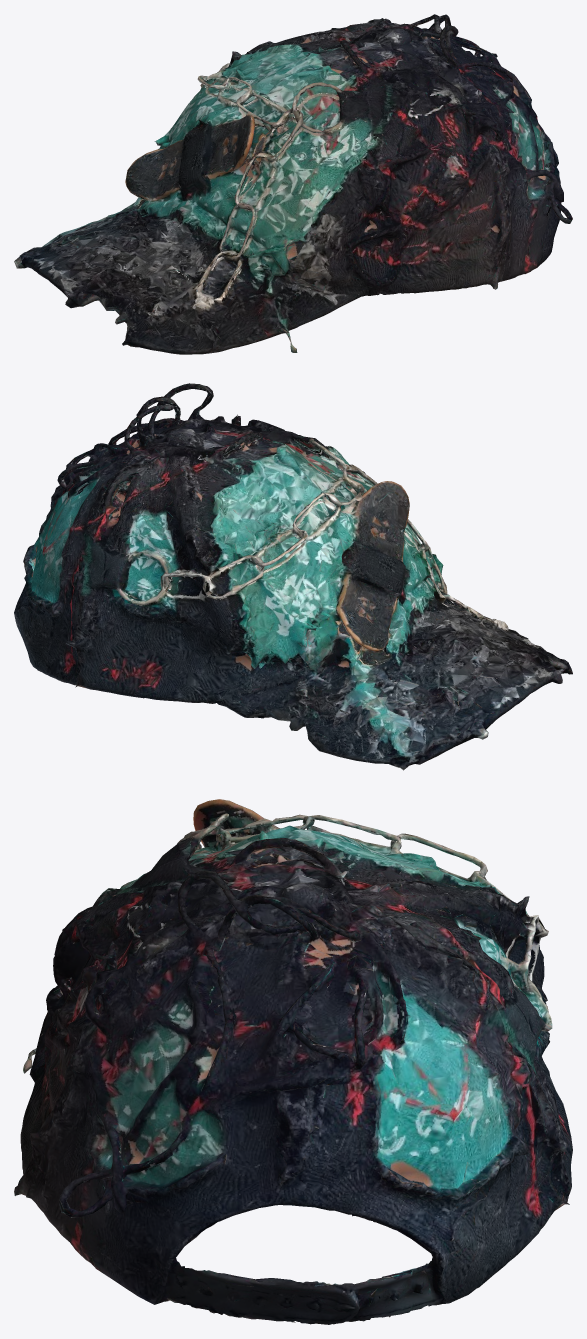
File: Skate.gltf
The picture shows the model from 3 angles, top to bottom: view 1: azimuth 30°, elevation 25°; view 2: azimuth 150°, elevation 25°; view 3: azimuth 270°, elevation 25°; orthographic projection. The views are drawn at different scales.
Visible parts, largest first — view 1: mesh.016; view 2: mesh.016; view 3: mesh.016.
Boxes of the visible parts, x1=… form: mesh.016: x1=14, y1=14, x2=572, y2=354; mesh.016: x1=14, y1=383, x2=572, y2=770; mesh.016: x1=14, y1=799, x2=572, y2=1324.
Size of the model in its own units: 0.3177 by 0.1514 by 0.2026.
Materials: 1 (1 with a texture image).
